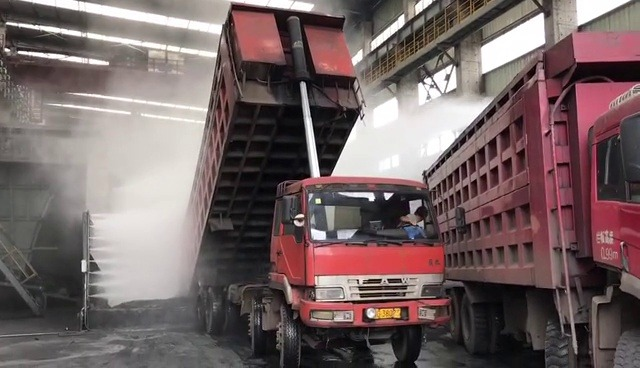dust: (22, 60, 182, 298), (330, 65, 497, 181)
truck: (178, 0, 450, 365), (438, 22, 637, 368)
